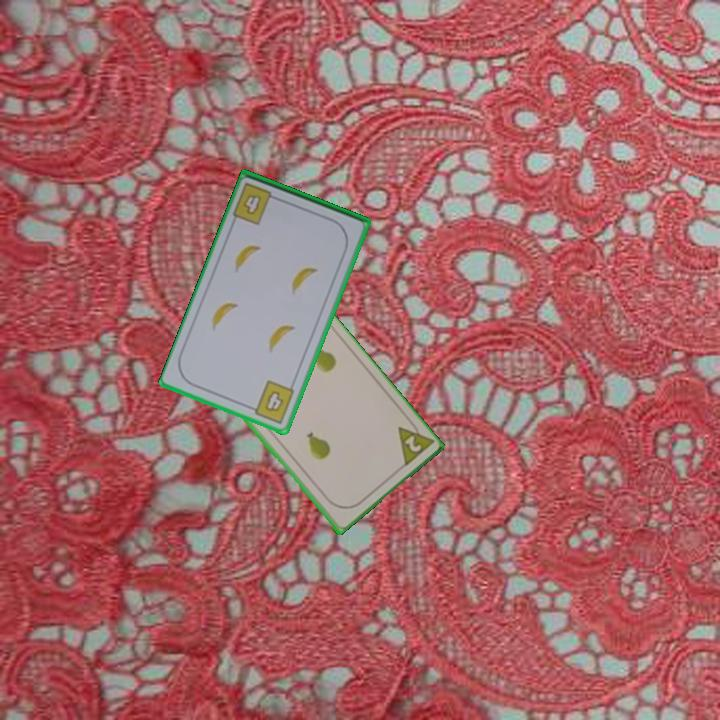2p: (393, 414, 435, 470)
4b: (245, 377, 298, 427), (230, 179, 283, 228)
